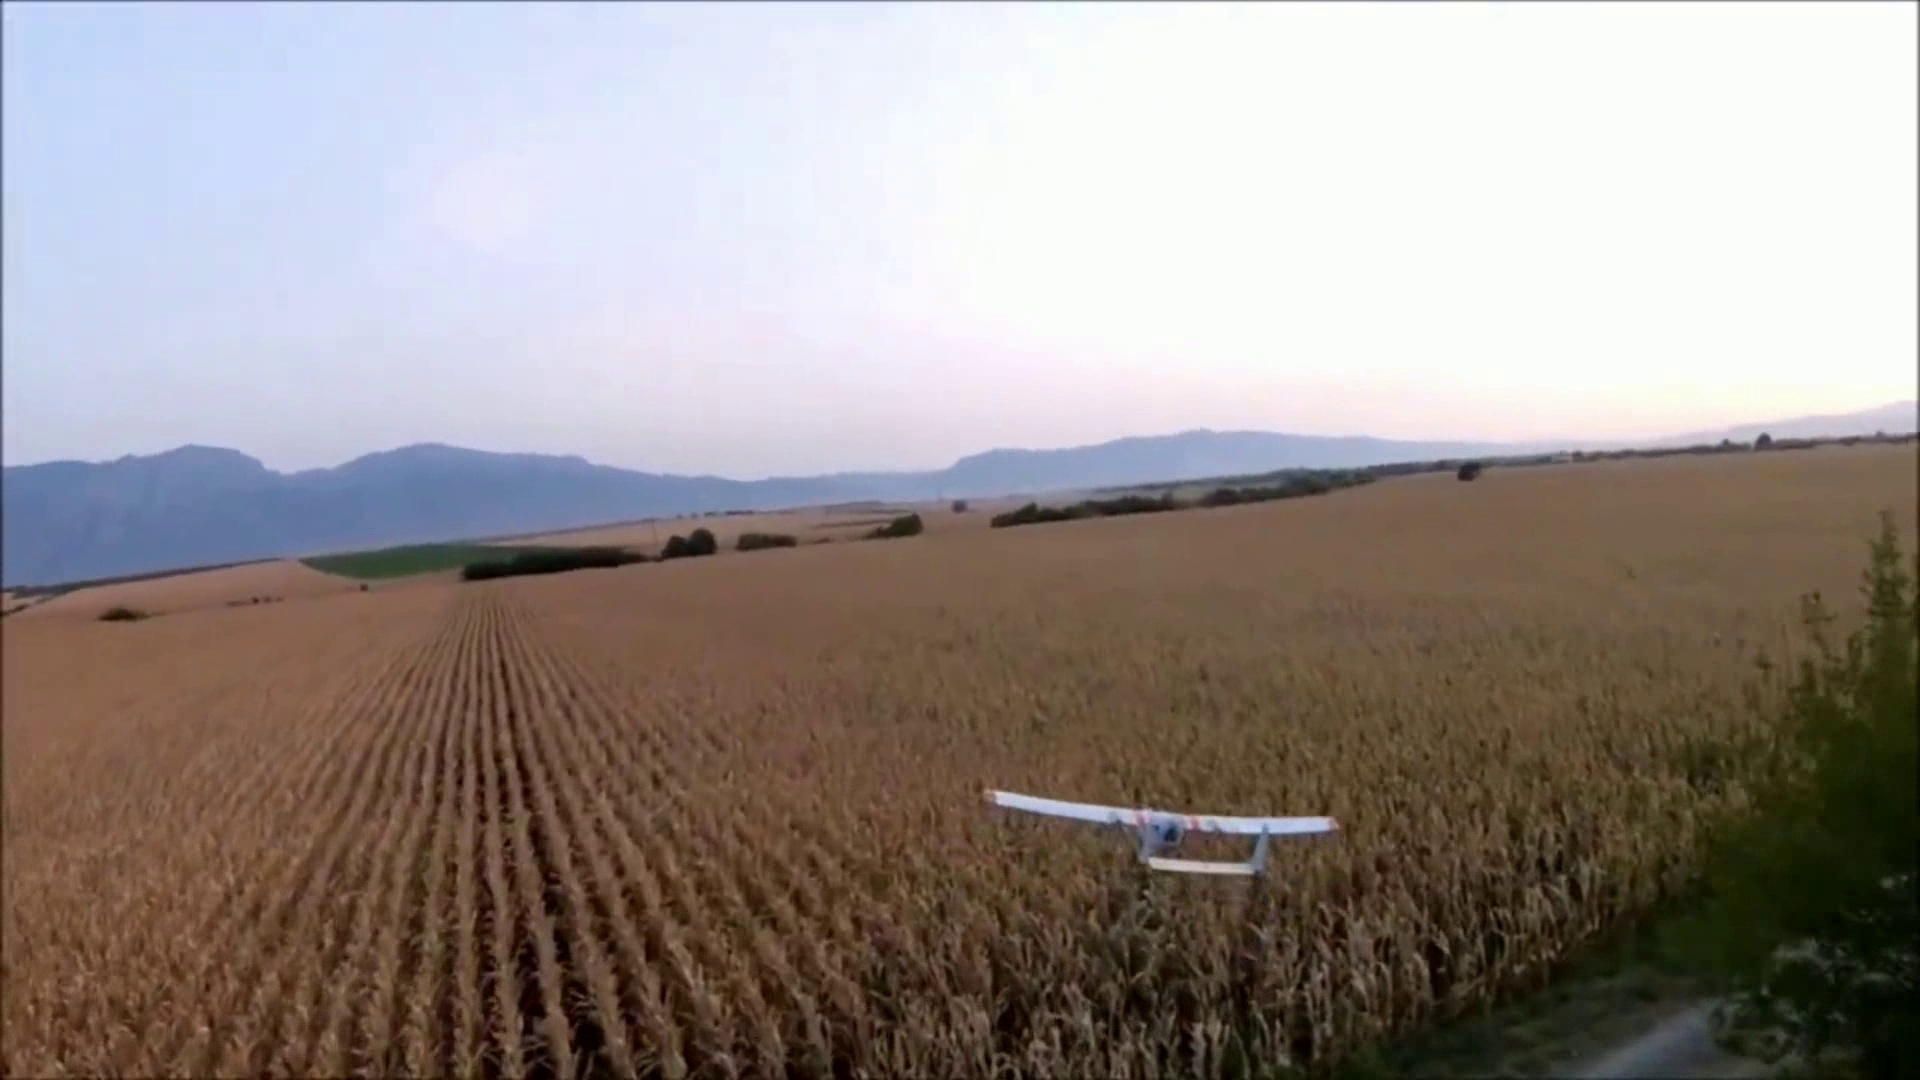airplane: (985, 790, 1340, 880)
